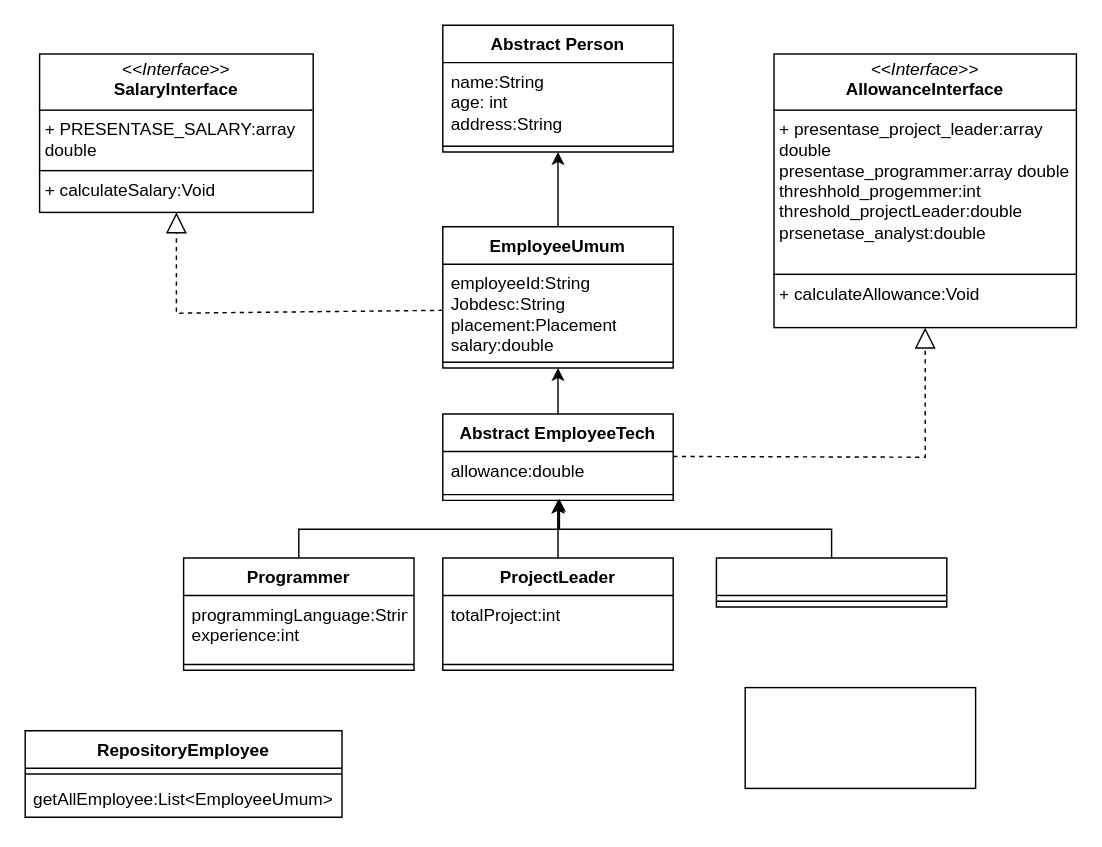
Image size: 1102x847. Some labels were removed from this diagram. The centre of each missing label's shape, as x and y in pixels:
Analyst: (831,582)
Placement namaKota:String UMK :double: (860,737)
